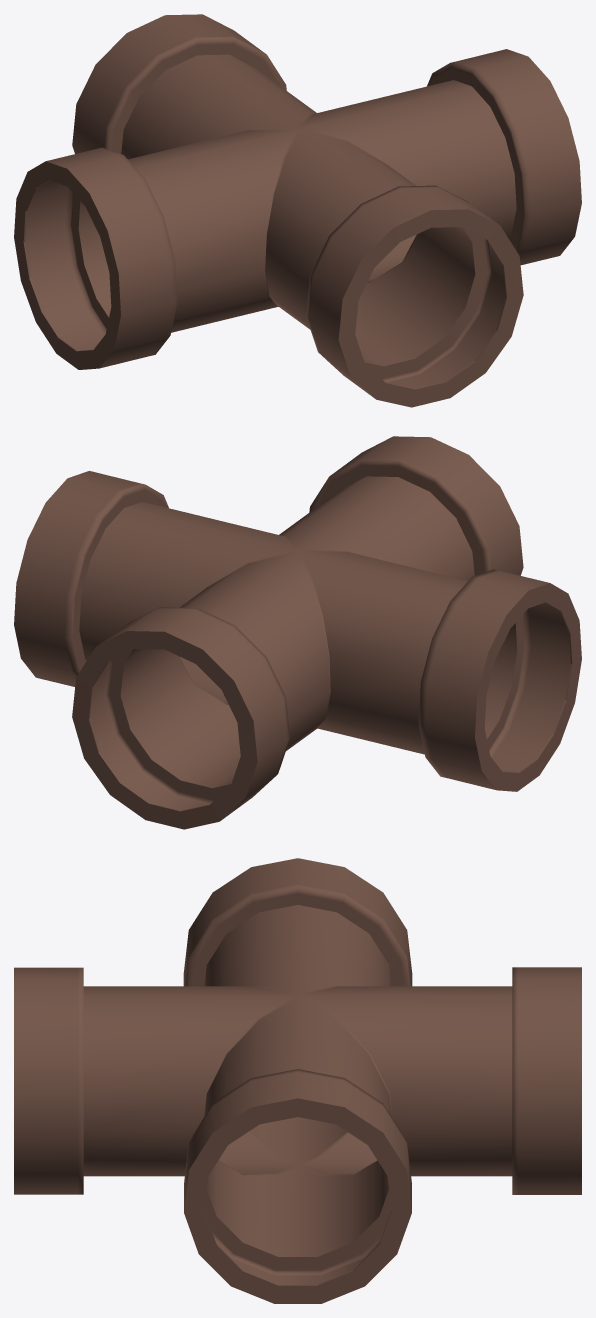
File: fbx_cross_pipe.fbx
The picture shows the model from 3 angles, top to bottom: view 1: azimuth 30°, elevation 25°; view 2: azimuth 150°, elevation 25°; view 3: azimuth 270°, elevation 25°; orthographic projection. The views are drawn at different scales.
Parts seen in each view (by area): view 1: cross.pipe; view 2: cross.pipe; view 3: cross.pipe.
Boxes of the visible parts, x1=… form: cross.pipe: x1=14, y1=14, x2=581, y2=407; cross.pipe: x1=14, y1=436, x2=581, y2=829; cross.pipe: x1=14, y1=858, x2=581, y2=1303.
Size of the model in its own units: 604 by 604 by 242.
